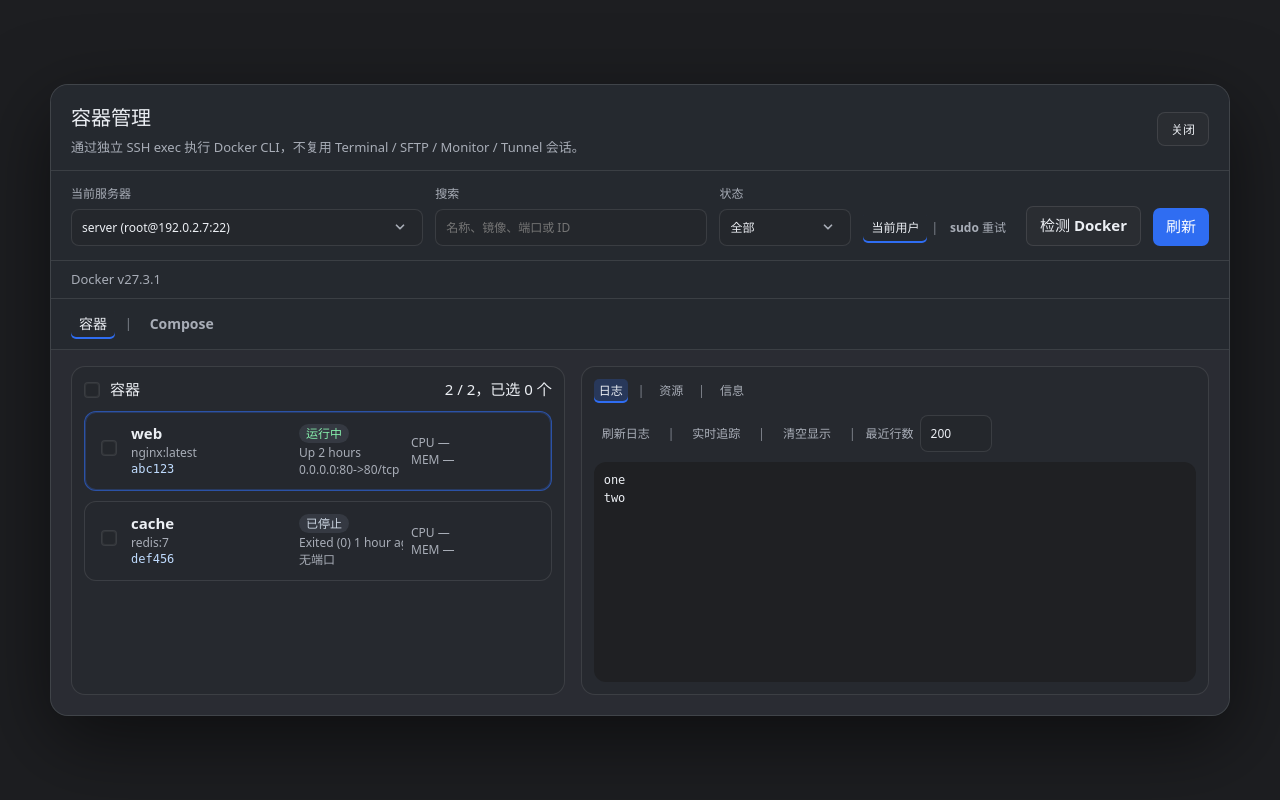
Scenario: DockerManagerDialog › keeps container card stat placeholders stable after refreshing stats
Expected: the element with class "container-stats" next to "0.0.0.0:80->80/tcp" shows "CPU —", [411,434,450,451]
Expected: the element with class "container-stats" next to "0.0.0.0:80->80/tcp" shows "MEM —", [411,451,455,468]
Click the button "资源".
click(671, 391)  # box [654,379,688,403]
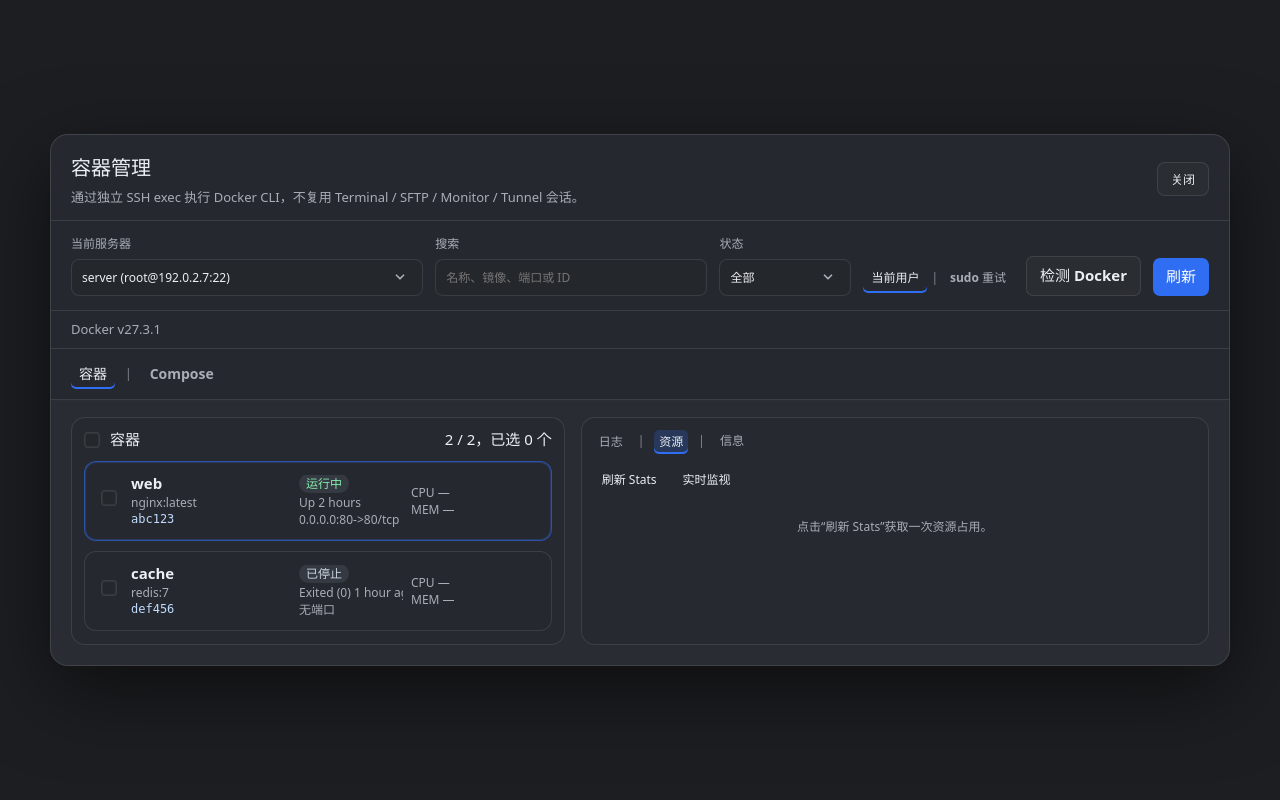
Click the button with test id "docker-refresh-stats".
click(629, 480)  # box [594,466,665,494]
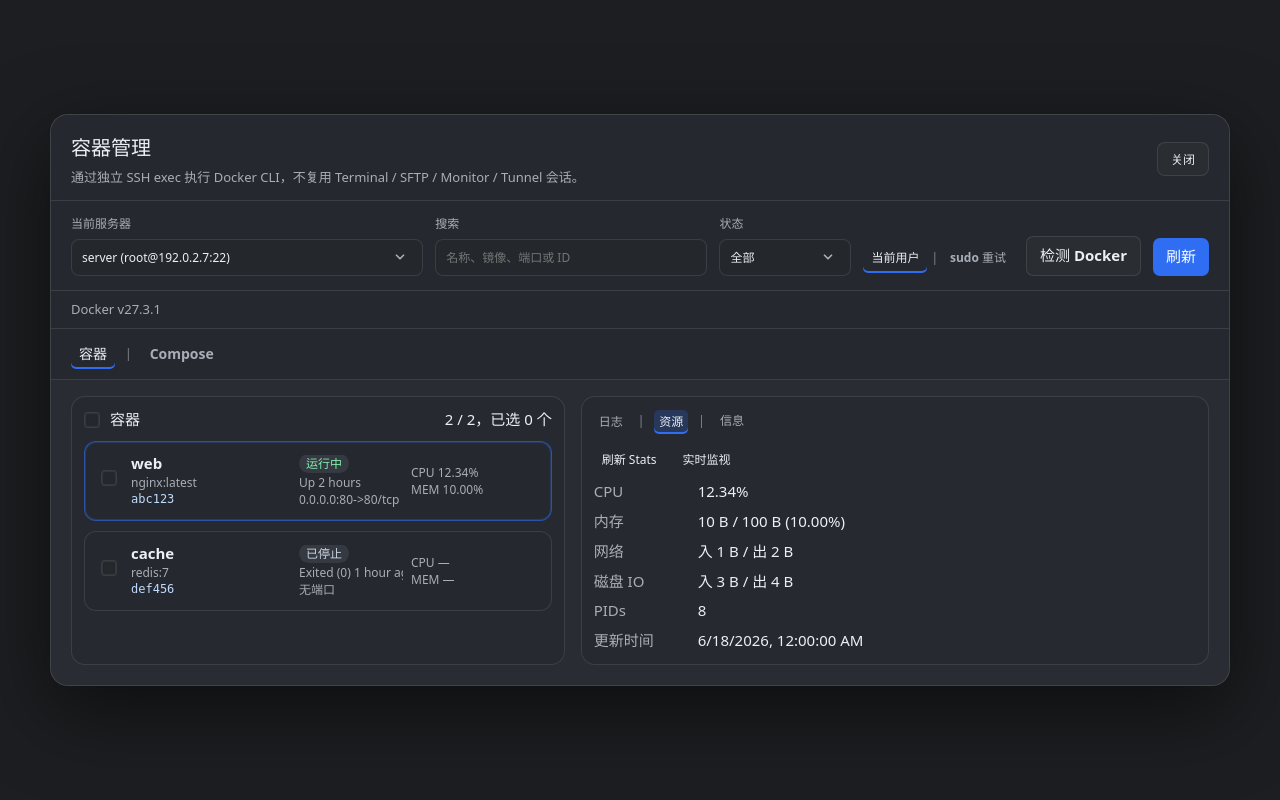
Result: the element with class "container-stats" shows "CPU 12.34%" at [411,464,478,481]
Result: the element with class "container-stats" shows "MEM 10.00%" at [411,481,483,498]
